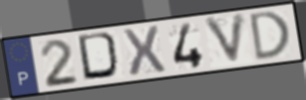2: (39, 38, 80, 89)
4: (171, 20, 205, 70)
D: (75, 30, 124, 82), (248, 9, 293, 63)
V: (202, 11, 249, 68)
X: (119, 24, 168, 79)
